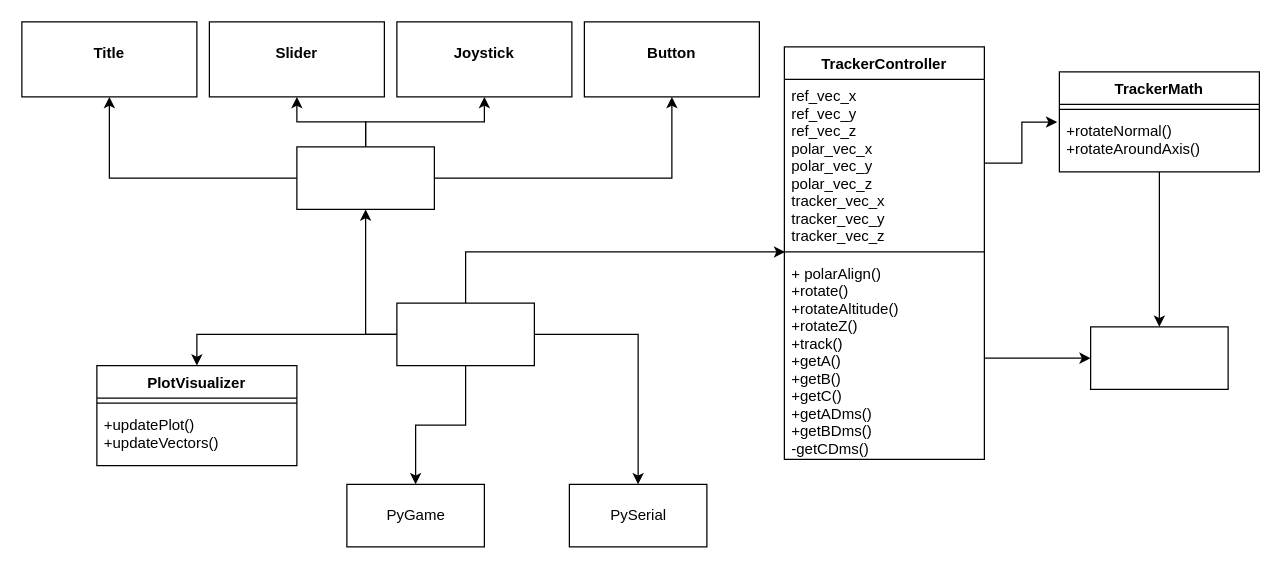
Image size: 1281x569. Some labels were removed from this diagram. The shapes that lost their labels are listed below. From the top down, each one's centre as x and y in pixels, then its label:
At (x=365, y=177): "gui".
At (x=465, y=334): "Controller".
At (x=1158, y=357): "NumPy".
